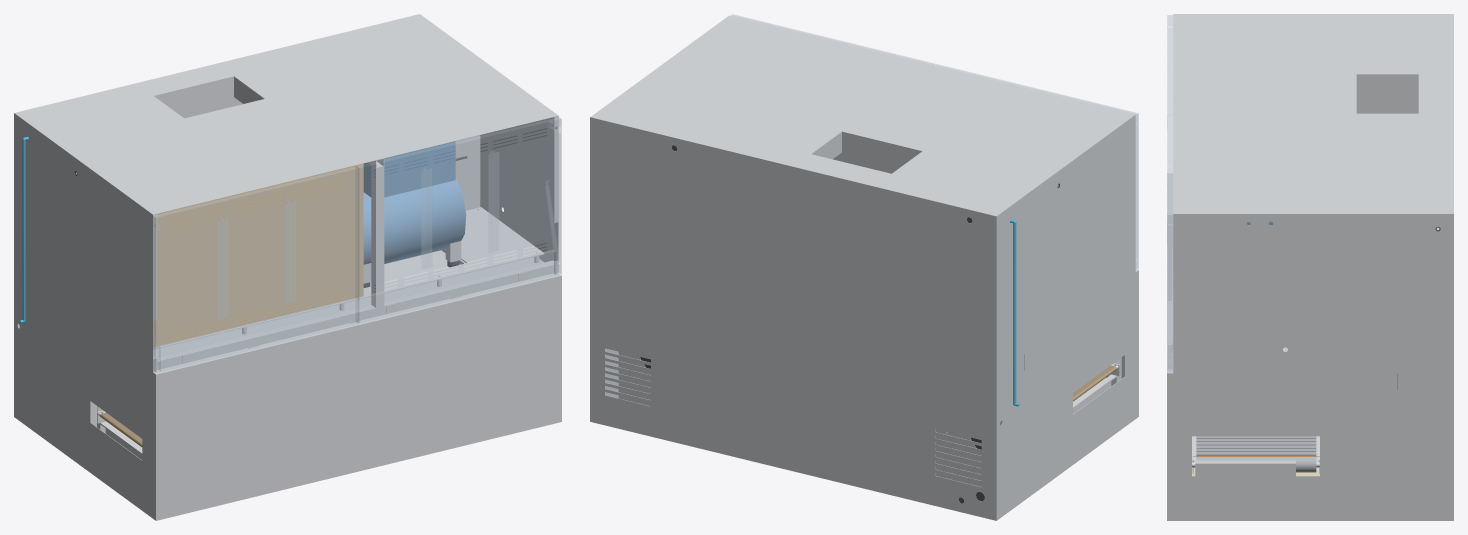
Rendered from modul_D.glb.
3 views of the same model, side by side, from view 1: azimuth 30°, elevation 25°; view 2: azimuth 150°, elevation 25°; view 3: azimuth 270°, elevation 25° (orthographic).
Visible parts, largest first — view 1: F_UST_KABIN__sac, F_TP10_GOVDE__sac, F_UST_KAPAK__on_seffaf__KAPAK_F_SOL, F_UST_KAPAK__on_seffaf__KAPAK_F_SAG, D_PIZZA_YEDEK_UST, HAVA_KOMPRESOR__kompresor, F_UST_RAF__sac, F_UST_KABIN__paslanmaz, F_DAVLUMBAZ__sac, F_KOMP_AYAK__paslanmaz, HAVA_KOMPRESOR__hava_ana; view 2: F_UST_KABIN__sac, F_TP10_GOVDE__sac, F_DAVLUMBAZ__sac, F_UST_KAPAK__on_seffaf__KAPAK_F_SOL, HAVA_KOMPRESOR__hava_ana; view 3: F_UST_KABIN__sac, F_TP10_GOVDE__sac, F_TP10_KONVEYOR__tel_bant, F_DAVLUMBAZ__sac, F_UST_KAPAK__on_seffaf__KAPAK_F_SAG, F_CIKIS_PLAKA__sac, F_TP10_KONVEYOR__tel_bant__RULO_TP_CIKIS, F_UST_KAPAK__on_seffaf__KAPAK_F_SOL, F_TP10_GOVDE__yalitim.
Boxes of the visible parts, x1,y1,x2,y2 form: F_UST_KABIN__sac: (14,14,558,436); F_TP10_GOVDE__sac: (42,273,561,520); F_UST_KAPAK__on_seffaf__KAPAK_F_SOL: (153,166,358,373); F_UST_KAPAK__on_seffaf__KAPAK_F_SAG: (356,117,561,323); D_PIZZA_YEDEK_UST: (153,163,363,347); HAVA_KOMPRESOR__kompresor: (363,141,466,264); F_UST_RAF__sac: (153,207,544,357); F_UST_KABIN__paslanmaz: (153,158,553,369); F_DAVLUMBAZ__sac: (76,77,480,210); F_KOMP_AYAK__paslanmaz: (370,249,464,286); HAVA_KOMPRESOR__hava_ana: (19,137,28,323); F_UST_KABIN__sac: (590,15,1135,520); F_TP10_GOVDE__sac: (618,269,1138,499); F_DAVLUMBAZ__sac: (812,132,921,173); F_UST_KAPAK__on_seffaf__KAPAK_F_SOL: (934,64,1138,270); HAVA_KOMPRESOR__hava_ana: (1010,219,1019,406); F_UST_KABIN__sac: (1173,14,1453,520); F_TP10_GOVDE__sac: (1167,173,1397,520); F_TP10_KONVEYOR__tel_bant: (1196,436,1316,456); F_DAVLUMBAZ__sac: (1356,74,1439,229); F_UST_KAPAK__on_seffaf__KAPAK_F_SAG: (1167,115,1173,371); F_CIKIS_PLAKA__sac: (1195,460,1295,476); F_TP10_KONVEYOR__tel_bant__RULO_TP_CIKIS: (1196,457,1316,472); F_UST_KAPAK__on_seffaf__KAPAK_F_SOL: (1167,15,1173,115); F_TP10_GOVDE__yalitim: (1191,436,1320,476).
Size of the model in its own units: 1.55 by 1.07 by 0.909.
